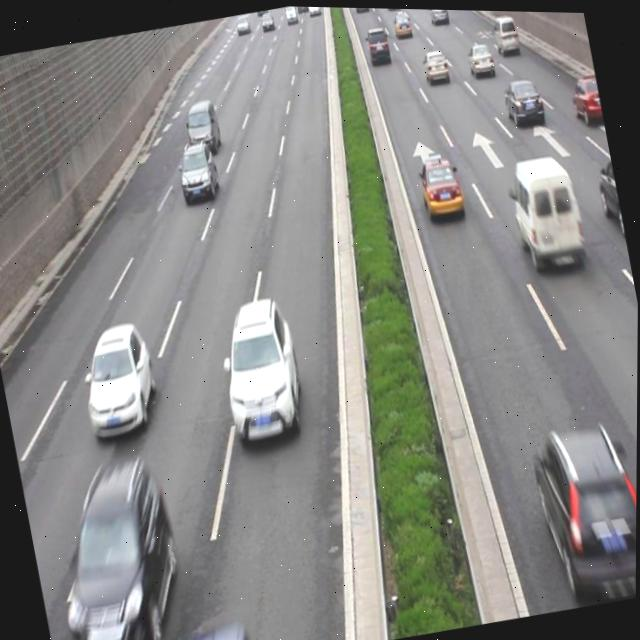car: (523, 411, 638, 604), (215, 296, 308, 448), (74, 319, 164, 439), (135, 581, 257, 640), (415, 151, 466, 223), (592, 149, 627, 242), (174, 138, 222, 204), (498, 73, 545, 131), (565, 72, 605, 126), (466, 39, 495, 77), (421, 46, 450, 84)
truck: (502, 145, 591, 282), (182, 98, 222, 153)
